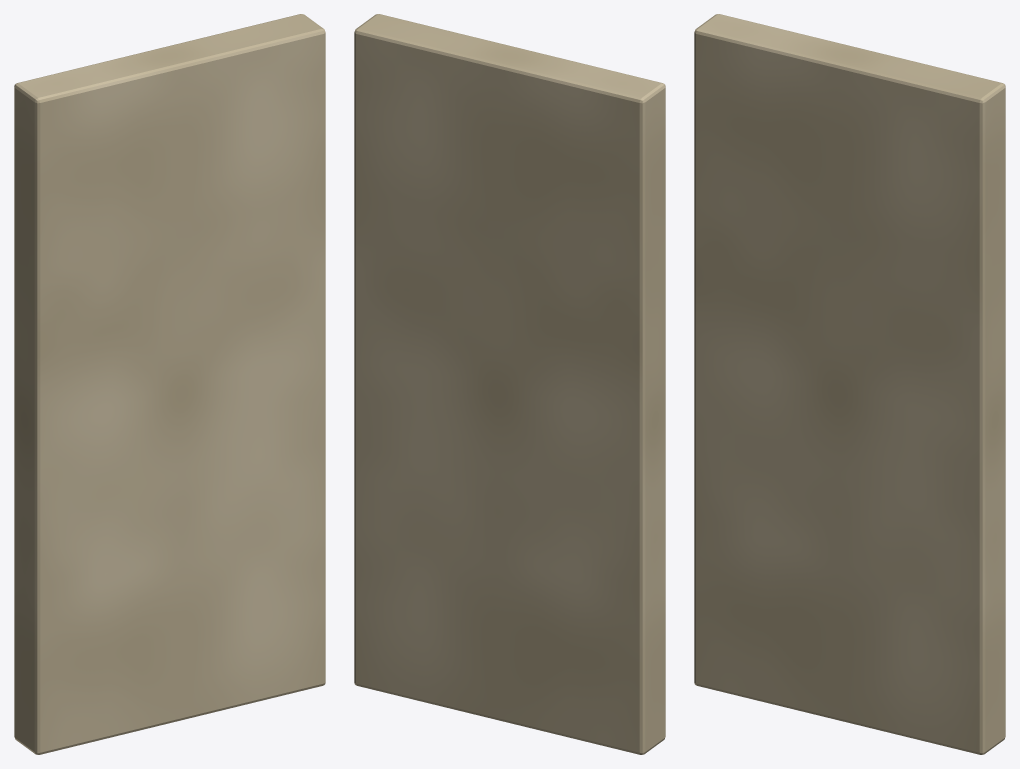
File: north_connector_cap.glb
The picture shows the model from 3 angles, left to right: view 1: azimuth 30°, elevation 25°; view 2: azimuth 150°, elevation 25°; view 3: azimuth 330°, elevation 25°; orthographic projection.
Visible parts, largest first — view 1: RemovableNorthConnectorCap_001-col; view 2: RemovableNorthConnectorCap_001-col; view 3: RemovableNorthConnectorCap_001-col.
Part boxes in pixels (<box>): RemovableNorthConnectorCap_001-col: <box>14,14,325,754</box>; RemovableNorthConnectorCap_001-col: <box>354,14,665,754</box>; RemovableNorthConnectorCap_001-col: <box>694,14,1005,754</box>.
Bounding box in the file's own units: 1.25 × 2.7 × 0.18.
1 material, 1 textured.
